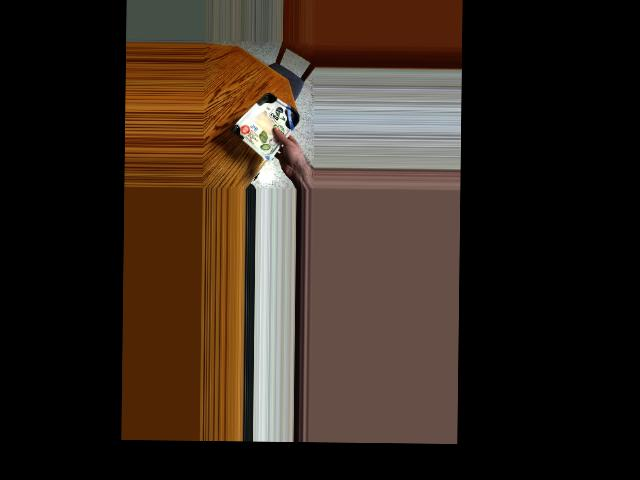cheese: (239, 91, 294, 150)
